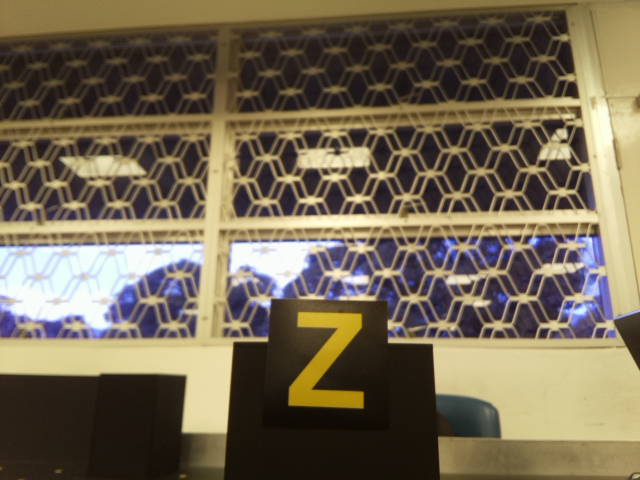z: (288, 307, 370, 409)
